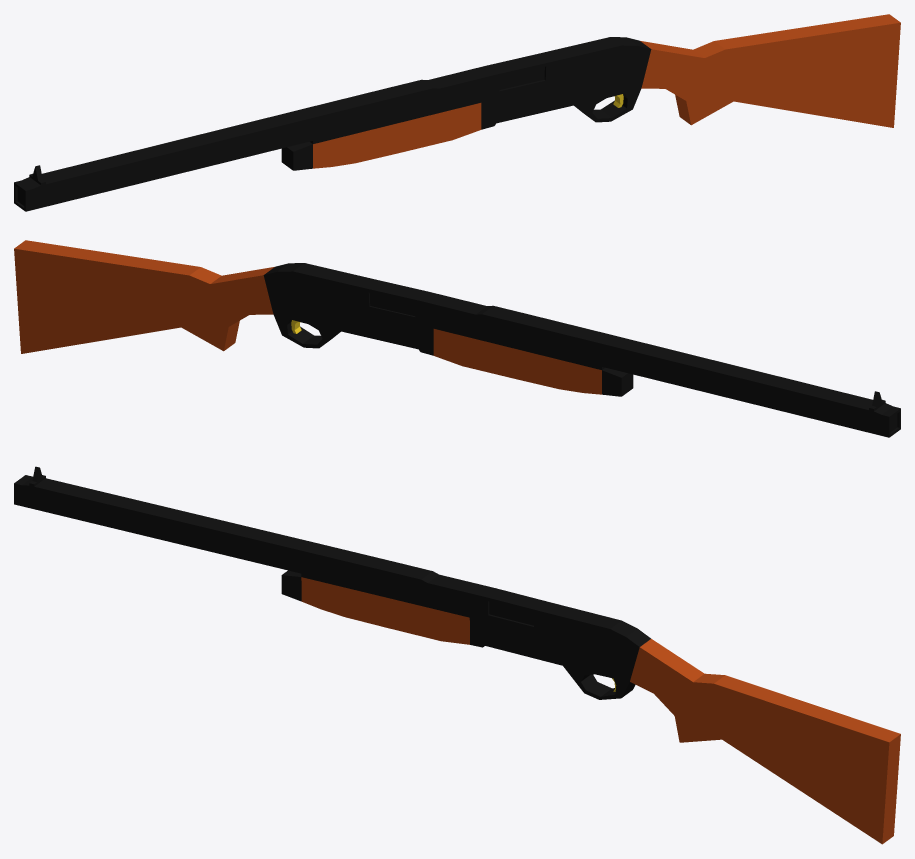
The model's file is shotgunMesh.fbx.
3 views of the same model, one above another, from view 1: azimuth 30°, elevation 25°; view 2: azimuth 150°, elevation 25°; view 3: azimuth 330°, elevation 25° (orthographic).
Visible parts, largest first — view 1: Gun, Gun.001; view 2: Gun, Gun.001; view 3: Gun, Gun.001.
Part boxes in pixels (box(x1,y1,x2,y2)): Gun: box(14, 14, 900, 211); Gun.001: box(281, 103, 481, 170); Gun: box(14, 240, 900, 437); Gun.001: box(433, 329, 633, 396); Gun: box(14, 466, 900, 844); Gun.001: box(281, 570, 469, 644).
Bounding box in the file's own units: 425 × 76.86 × 9.74.
